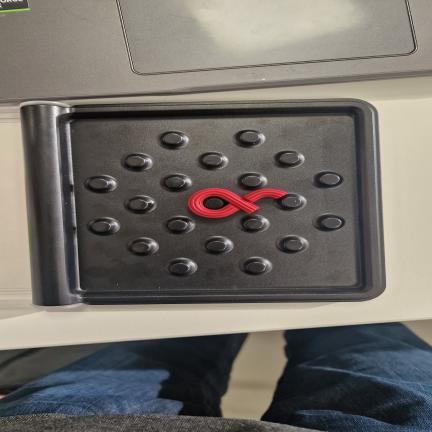J_DarkRed: (188, 188, 286, 218)
board: (21, 99, 385, 306)
hinge: (17, 97, 70, 310)
pin: (205, 238, 229, 253), (163, 176, 186, 190), (89, 177, 109, 191), (131, 241, 152, 254), (162, 133, 183, 145), (279, 152, 300, 164), (319, 173, 340, 185), (202, 154, 222, 166), (242, 175, 262, 187), (281, 196, 301, 208), (322, 217, 342, 229), (284, 239, 304, 251), (170, 262, 190, 274), (246, 261, 266, 273), (240, 131, 259, 143), (204, 198, 224, 209), (91, 221, 111, 232), (244, 219, 264, 230), (126, 156, 145, 167), (129, 199, 148, 210), (168, 220, 187, 231)
